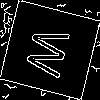W: (24, 24, 79, 82)
